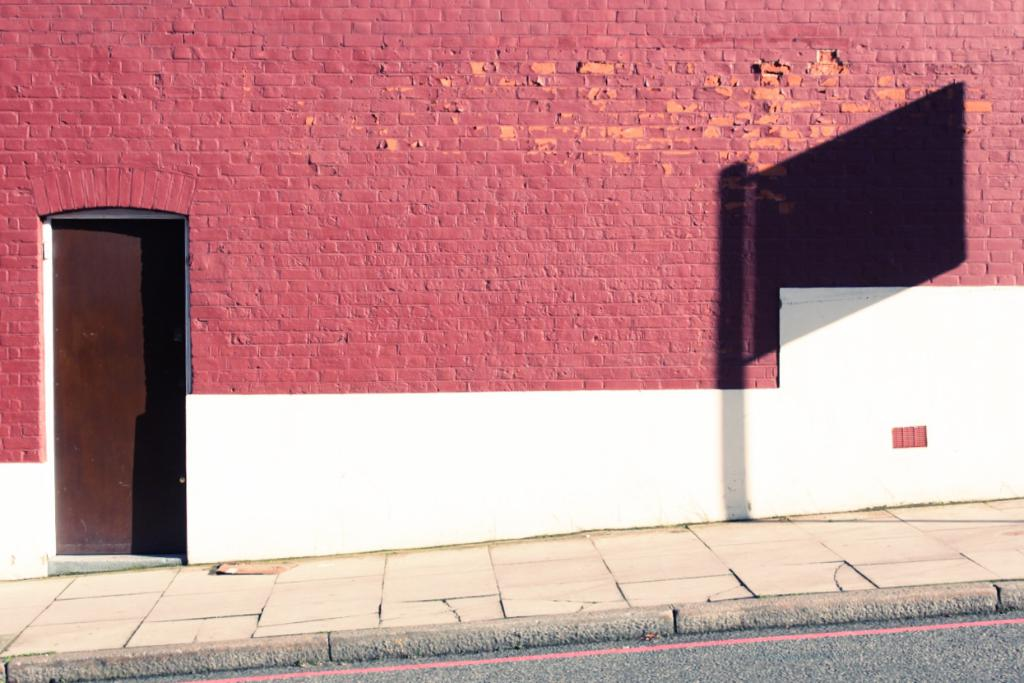Door: (34, 219, 189, 565)
